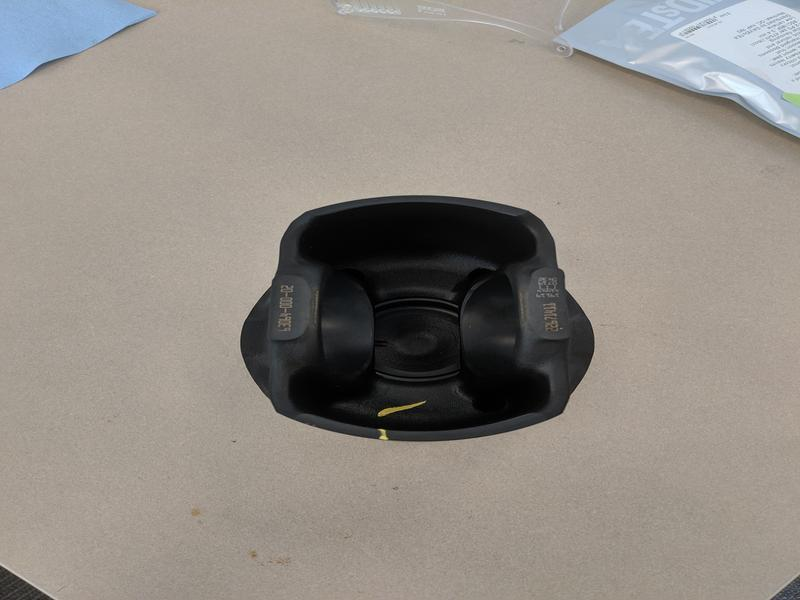piston: (226, 179, 601, 454)
